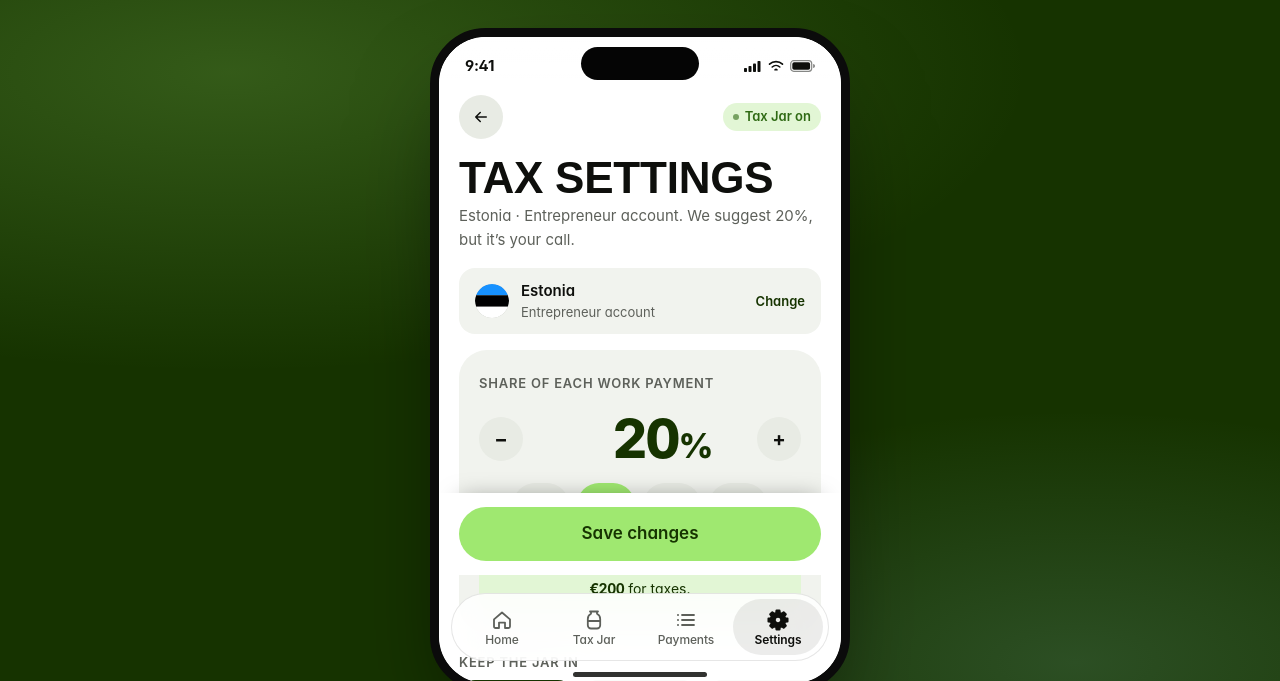
Test: tapping Settings inside the "Change" flow takes you back to the summary, not nowhere
Click the button "Estonia Entrepreneur account Change": (640, 302) [459,268,821,334]
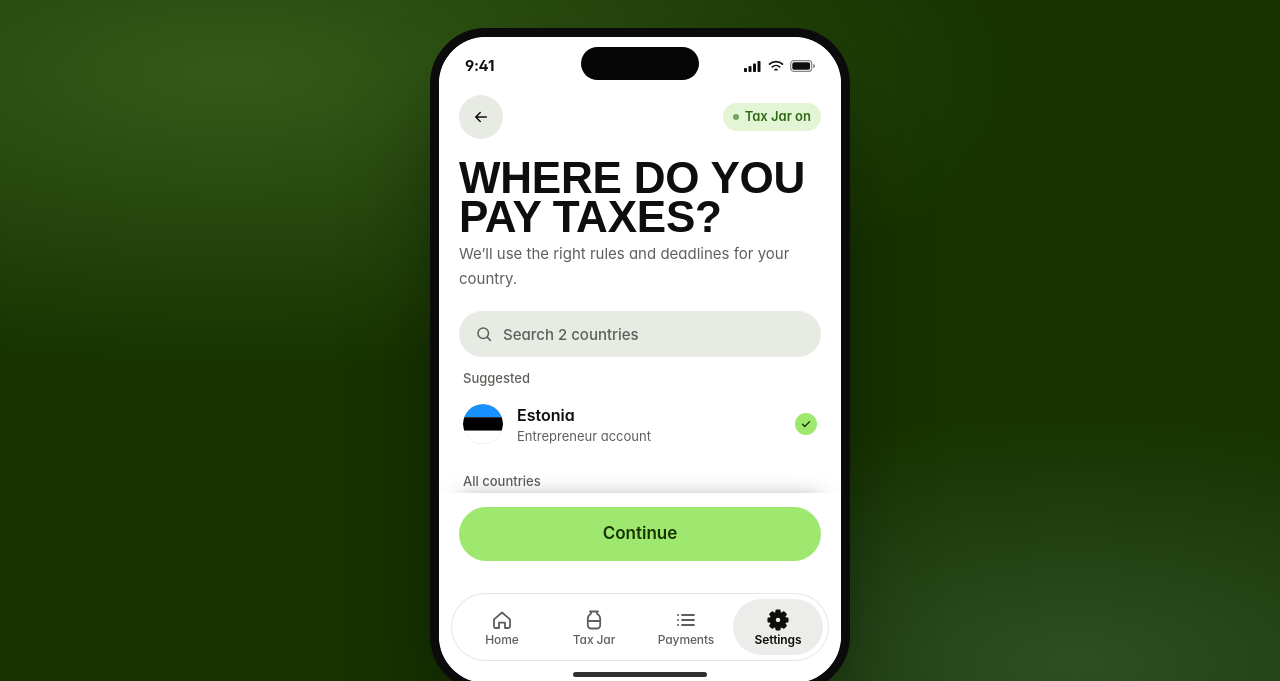
Expected: the heading "Where do you pay taxes?" is shown, [459,159,821,236]
Click the link "Settings": (778, 627) [733,599,823,655]
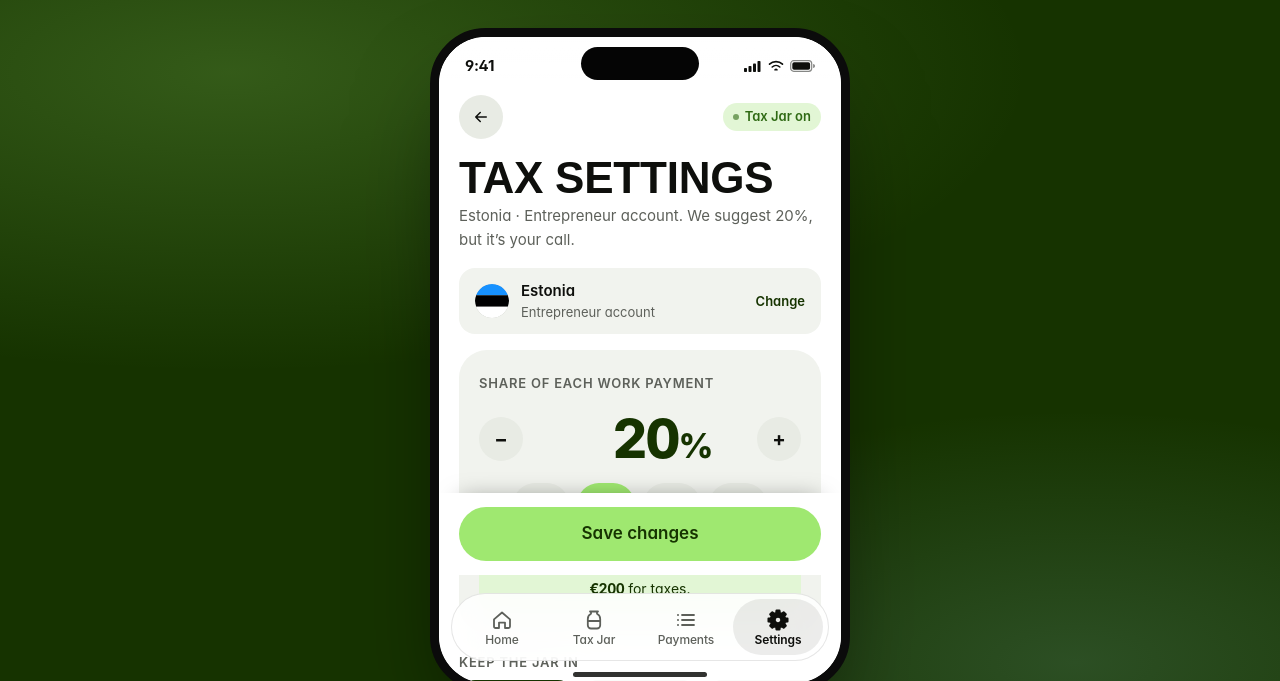
Expected: the heading "Tax settings" is shown, [459,159,821,198]
